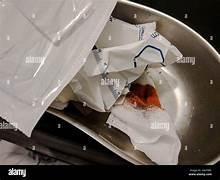cotton: (0, 0, 116, 135), (69, 18, 181, 111), (107, 102, 180, 164)
